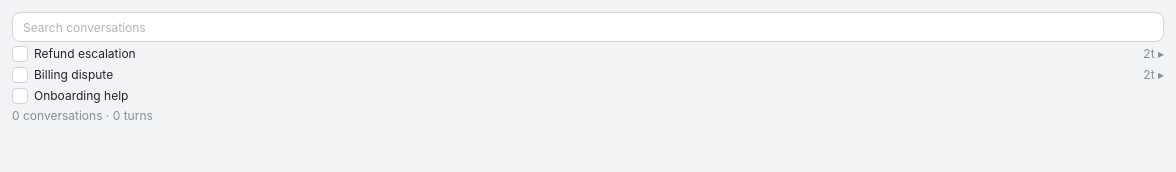
ConversationPicker › search hits the server with ?search= and filters the list
The image size is (1176, 172).
Expected: the text "Refund escalation" is shown, [34,46,136,63]
In the field with placeholder "Search conversations": (588, 27) [12,12,1164,42], type "billing"
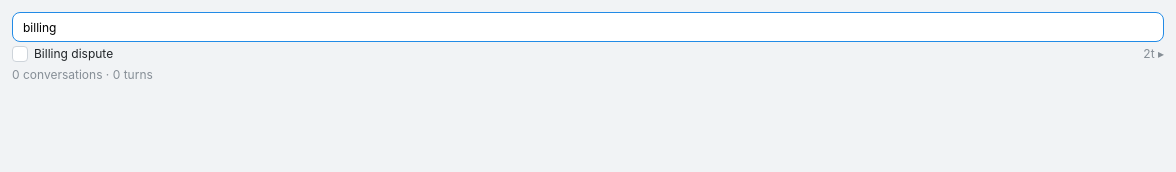
Expected: the text "Billing dispute" is shown, [34,46,113,63]
Now the button "Refund escalation" is gone
